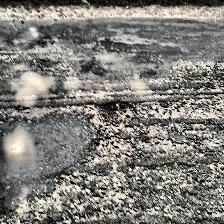pothole: (86, 98, 136, 132)
